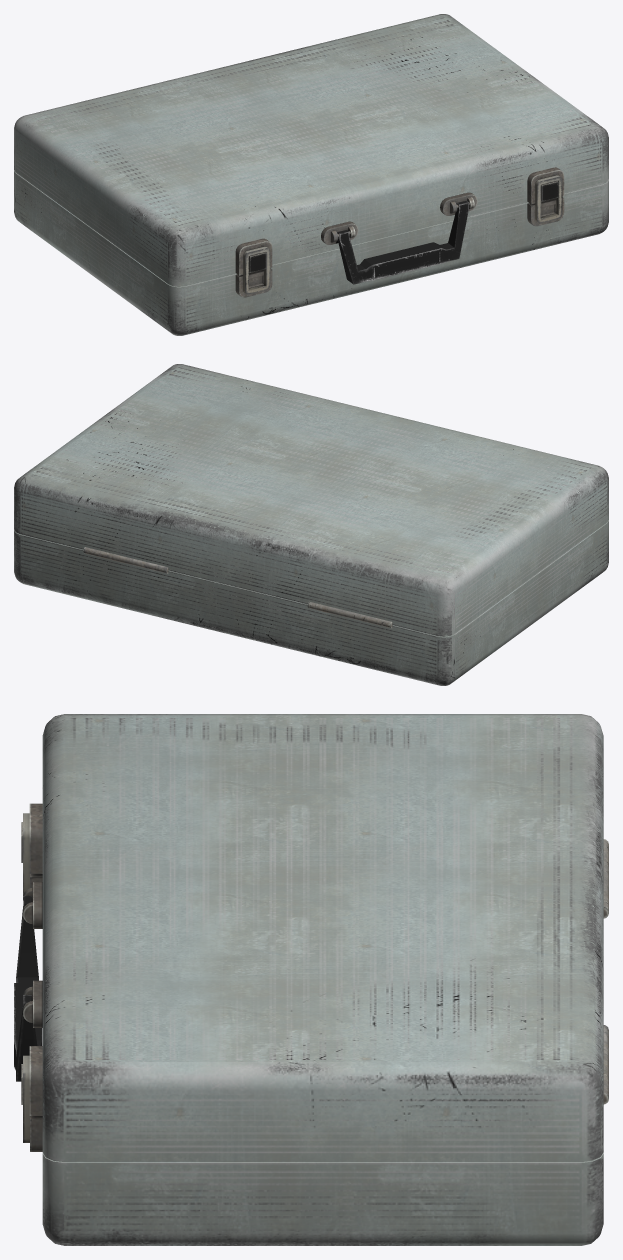
Rendered from 09_case_with_money_close.glb.
The picture shows the model from 3 angles, top to bottom: view 1: azimuth 30°, elevation 25°; view 2: azimuth 150°, elevation 25°; view 3: azimuth 270°, elevation 25°; orthographic projection. The views are drawn at different scales.
Parts seen in each view (by area): view 1: Intact_Whole; view 2: Intact_Whole; view 3: Intact_Whole.
Part boxes in pixels (x1,y1,x2,y2): Intact_Whole: [14, 14, 608, 335]; Intact_Whole: [14, 364, 608, 685]; Intact_Whole: [14, 714, 608, 1245].
Size of what is drawn, in the model's own units: 0.5543 by 0.129 by 0.3827.
1 material, 1 textured.
